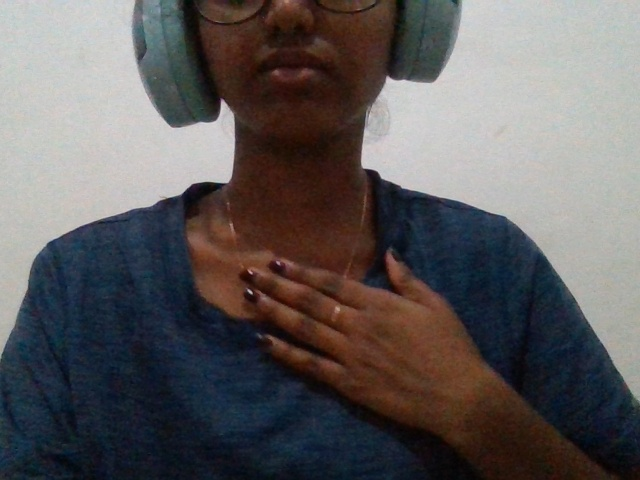Please: (220, 226, 524, 466)
